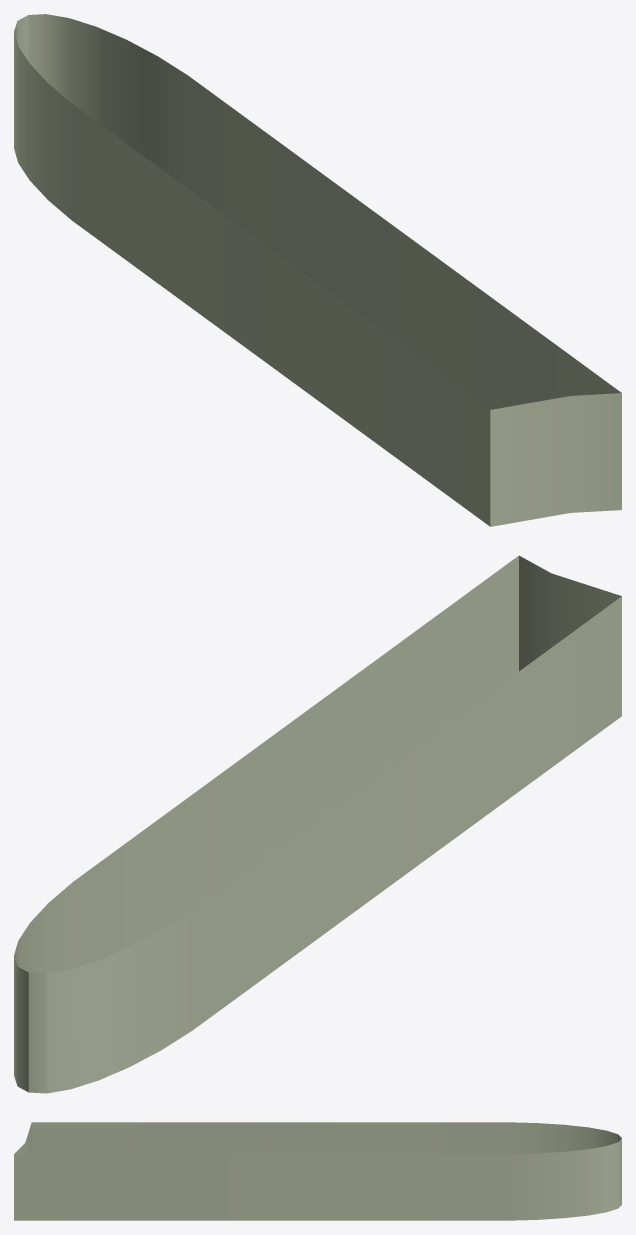
Rendered from original-56.obj.
The picture shows the model from 3 angles, top to bottom: view 1: azimuth 30°, elevation 25°; view 2: azimuth 150°, elevation 25°; view 3: azimuth 270°, elevation 25°; orthographic projection. The views are drawn at different scales.
Visible parts, largest first — view 1: #ID325; view 2: #ID325; view 3: #ID325.
Part boxes in pixels (x1=…): #ID325: x1=14, y1=14, x2=621, y2=526; #ID325: x1=14, y1=555, x2=621, y2=1093; #ID325: x1=14, y1=1122, x2=621, y2=1220.
Size of the model in its own units: 0.0159 by 0.0154 by 0.1274.
